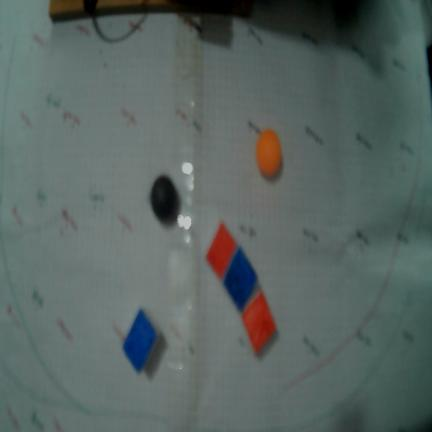circle_blue: (150, 176, 180, 227)
circle_orange: (256, 130, 281, 176)
rectangle_blue: (123, 311, 157, 373)
rectangle_orange: (206, 223, 236, 280)
square_blue: (223, 248, 257, 312)
square_orange: (242, 292, 276, 355)
